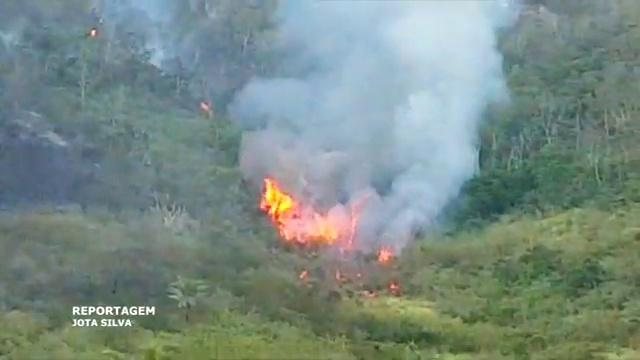fire: (262, 182, 291, 215)
smoke: (317, 5, 455, 164)
